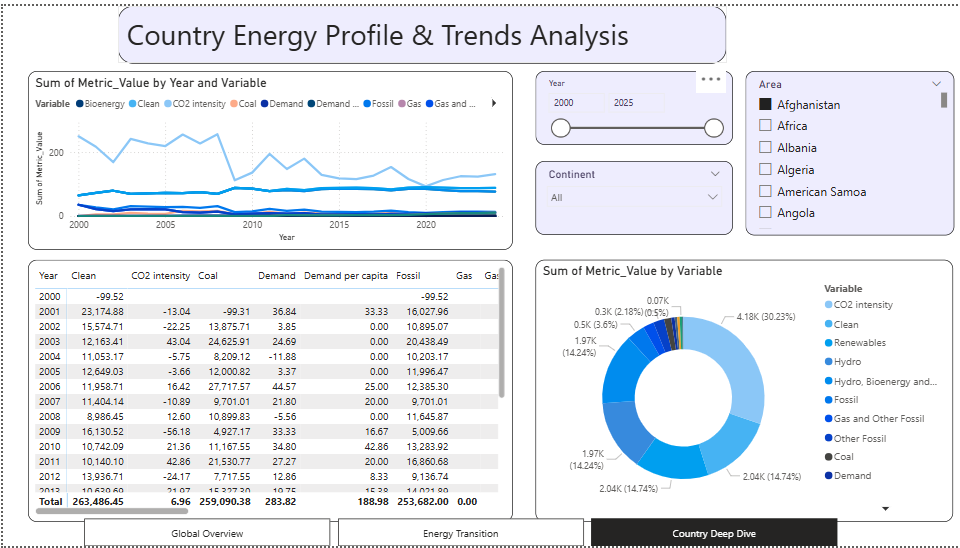

What the dashboard file says about the page in this screenshot:
{"tool":"powerbi","page":{"name":"Country Deep Dive","canvas":[1280,720],"ordinal":2},"visuals":[{"type":"slicer","fields":{"Values":["Dim Geography.Area"]},"box":[989.4,86.4,278.6,219.6],"z":0},{"type":"lineChart","fields":{"Category":["Dim Date.Year"],"Y":["Sum(Fact Table.Metric_Value)"],"Series":["Fact Table.Variable"]},"box":[32.9,86.4,646.3,238.8],"z":1000},{"type":"pivotTable","fields":{"Rows":["Dim Date.Year"],"Columns":["Dim Fuel Type.Variable"],"Values":["Sum(Fact Table.YoY_Pct_Change)"]},"box":[32.9,338.9,646.3,349.9],"z":2000},{"type":"donutChart","fields":{"Category":["Fact Table.Variable"],"Y":["Sum(Fact Table.Metric_Value)"]},"box":[710.8,338.9,557.1,349.9],"z":3000},{"type":"slicer","fields":{"Values":["Dim Geography.Continent"]},"box":[710.8,207.2,263.5,98.8],"z":4000},{"type":"slicer","fields":{"Values":["Dim Date.Year"]},"box":[710.8,86.4,263.5,98.8],"z":5000},{"type":"textbox","box":[153.7,0,811,76.8],"z":6000},{"type":"pageNavigator","box":[108.6,682.9,1005.7,37.1],"z":6001}]}

Visuals, with their boxes on the page's 1280x720 design canvas (x1, y1, x2, y2). These are canvas units, not pixel positions in the 960x548 screenshot, which may show the page scaled, cropped or inside an application window:
slicer - Dim Geography.Area: [989,86,1268,306]
lineChart - Dim Date.Year x Sum(Fact Table.Metric_Value): [33,86,679,325]
pivotTable - Dim Date.Year x Dim Fuel Type.Variable: [33,339,679,689]
donutChart - Fact Table.Variable x Sum(Fact Table.Metric_Value): [711,339,1268,689]
slicer - Dim Geography.Continent: [711,207,974,306]
slicer - Dim Date.Year: [711,86,974,185]
textbox: [154,0,965,77]
pageNavigator: [109,683,1114,720]
